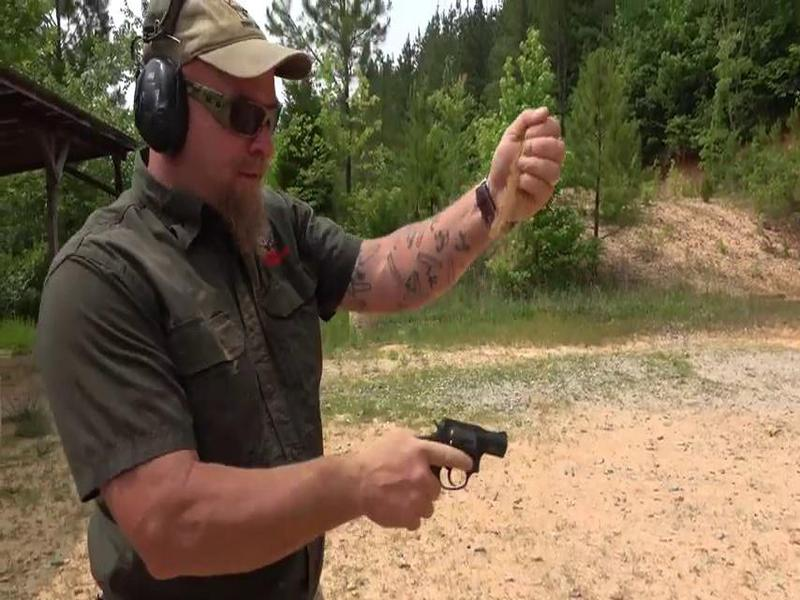Revolver: (363, 400, 531, 525)
